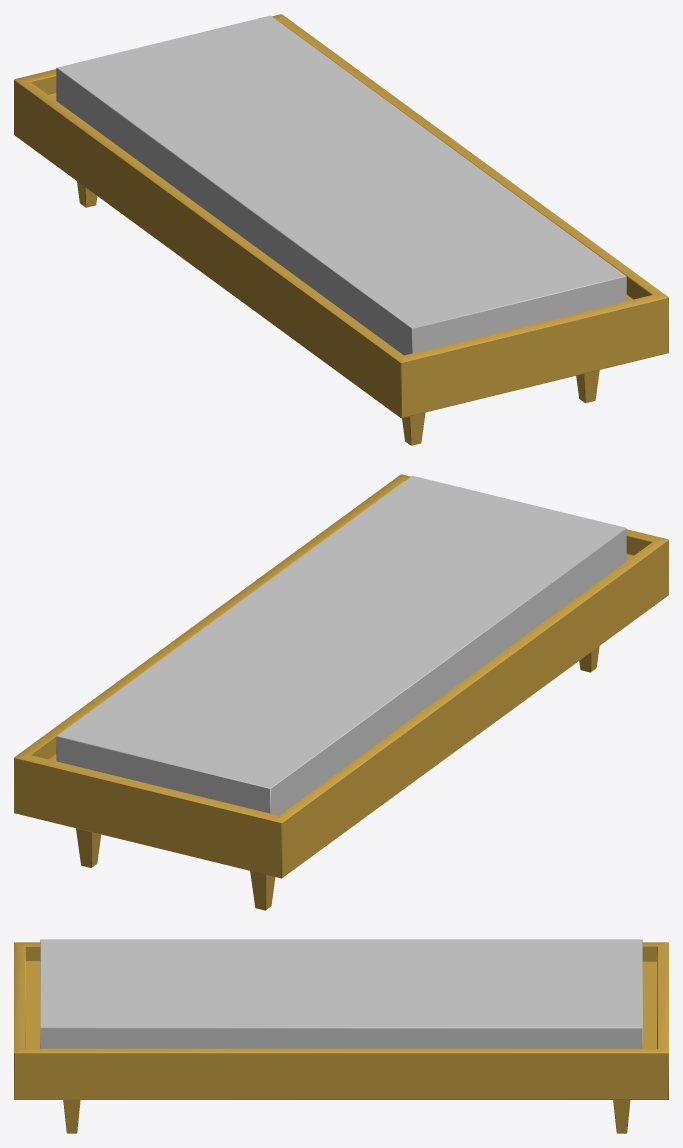
Rendered from Bed_3D_Model.fbx.
The picture shows the model from 3 angles, top to bottom: view 1: azimuth 30°, elevation 25°; view 2: azimuth 150°, elevation 25°; view 3: azimuth 270°, elevation 25°; orthographic projection. The views are drawn at different scales.
Visible parts, largest first — view 1: Null; view 2: Null; view 3: Null.
Part boxes in pixels (<box>): Null: <box>14,14,668,445</box>; Null: <box>14,474,668,910</box>; Null: <box>14,939,668,1133</box>.
Bounding box in the file's own units: 10 × 4.73 × 25.
